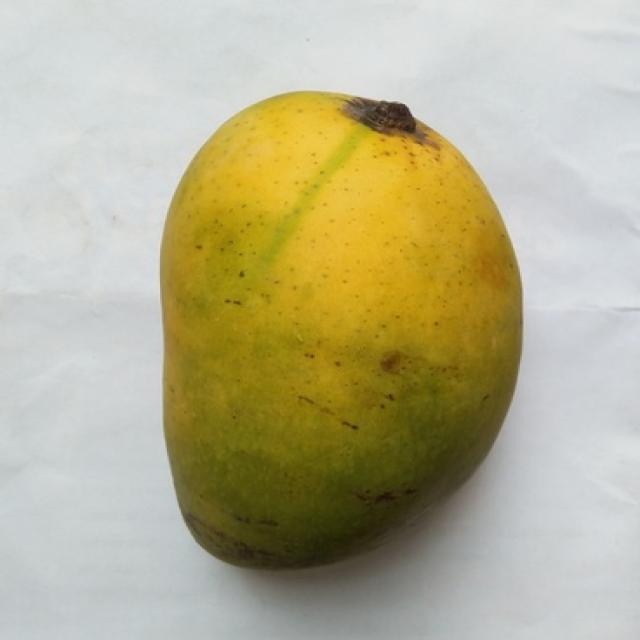Mango: (162, 93, 522, 569)
